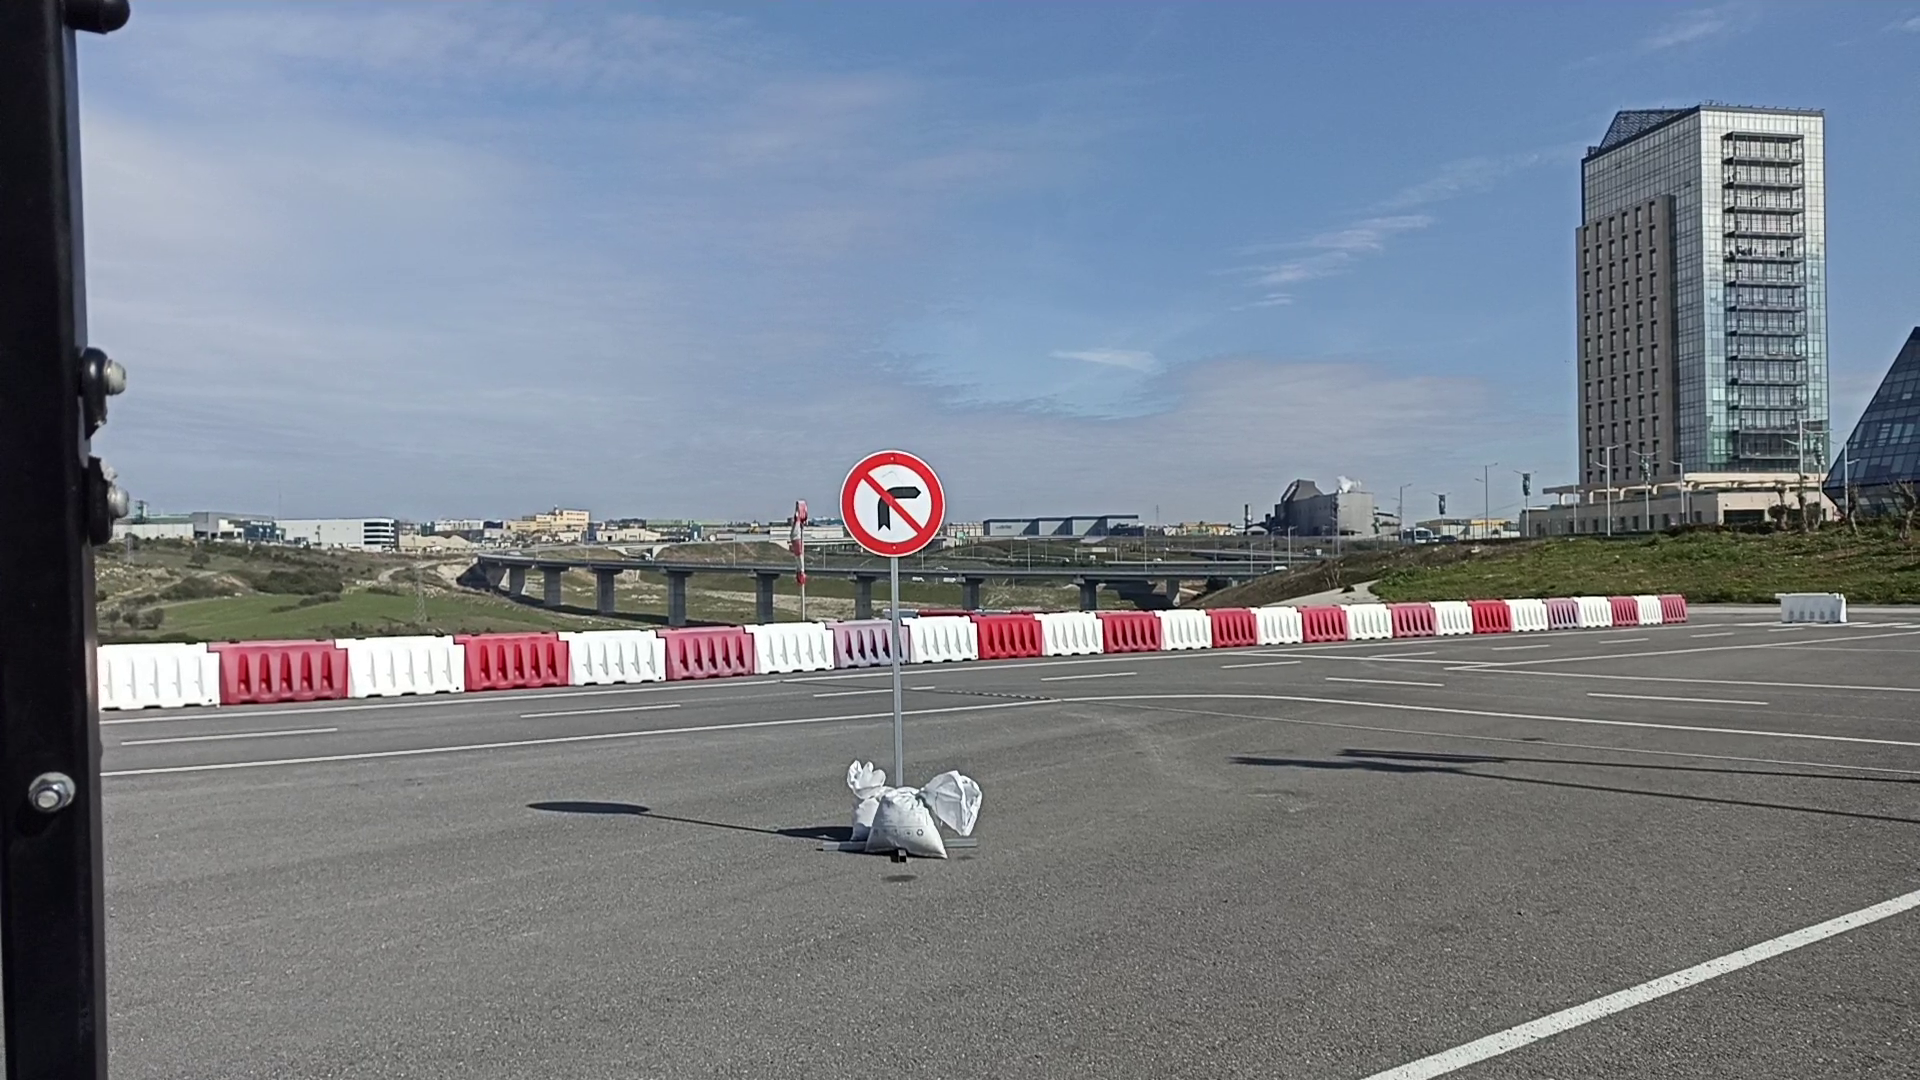noleftturn: (837, 448, 947, 559)
